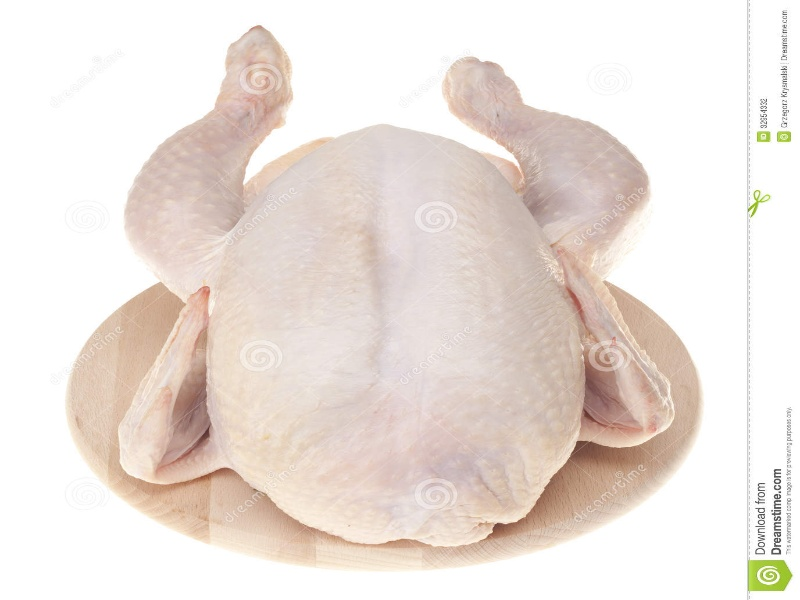Pollo: (64, 24, 705, 571)
